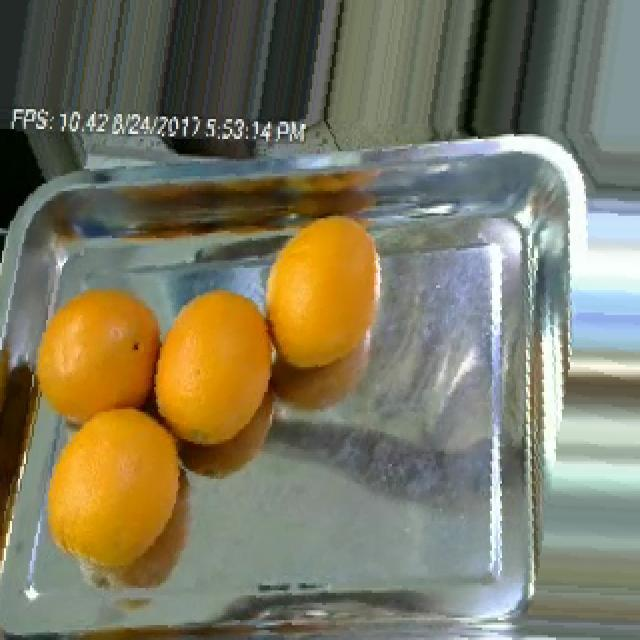Fruit: (26, 260, 182, 474), (138, 268, 294, 474), (248, 201, 396, 389)
